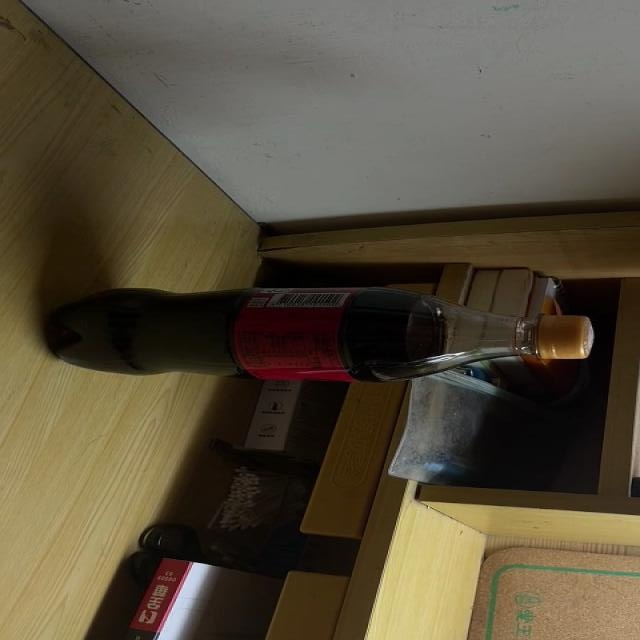Coca-Cola: (50, 289, 592, 381)
